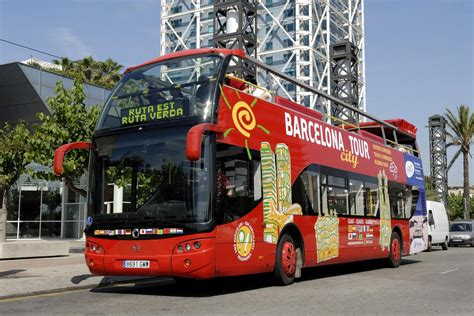bus: (90, 62, 428, 280)
car: (450, 221, 474, 248)
